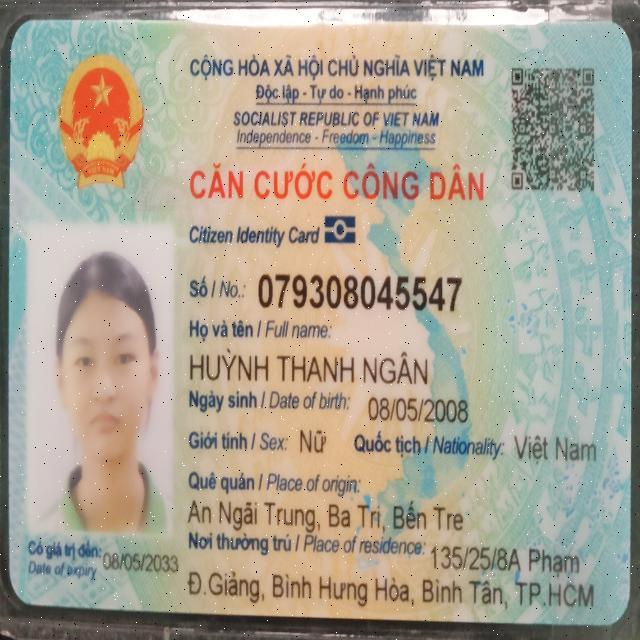current_place: (185, 566, 597, 611), (429, 542, 581, 579)
dob: (366, 393, 470, 427)
expire_date: (101, 549, 180, 576)
gender: (297, 425, 329, 458)
id: (255, 267, 466, 316)
name: (187, 344, 431, 388)
nationality: (512, 431, 598, 468)
origin_place: (185, 496, 466, 535)
qr: (508, 59, 598, 200)
